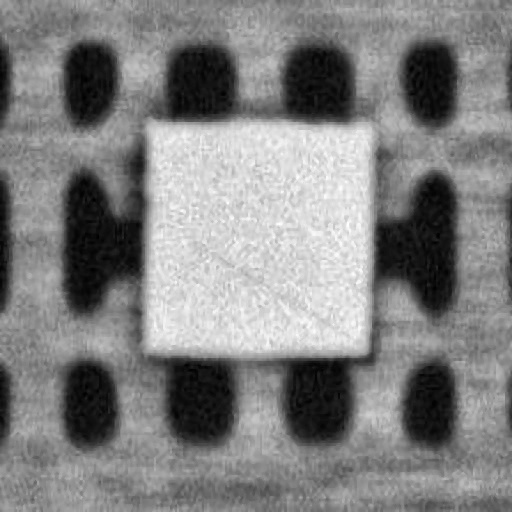DIE_CRACK: (287, 160, 512, 227)
